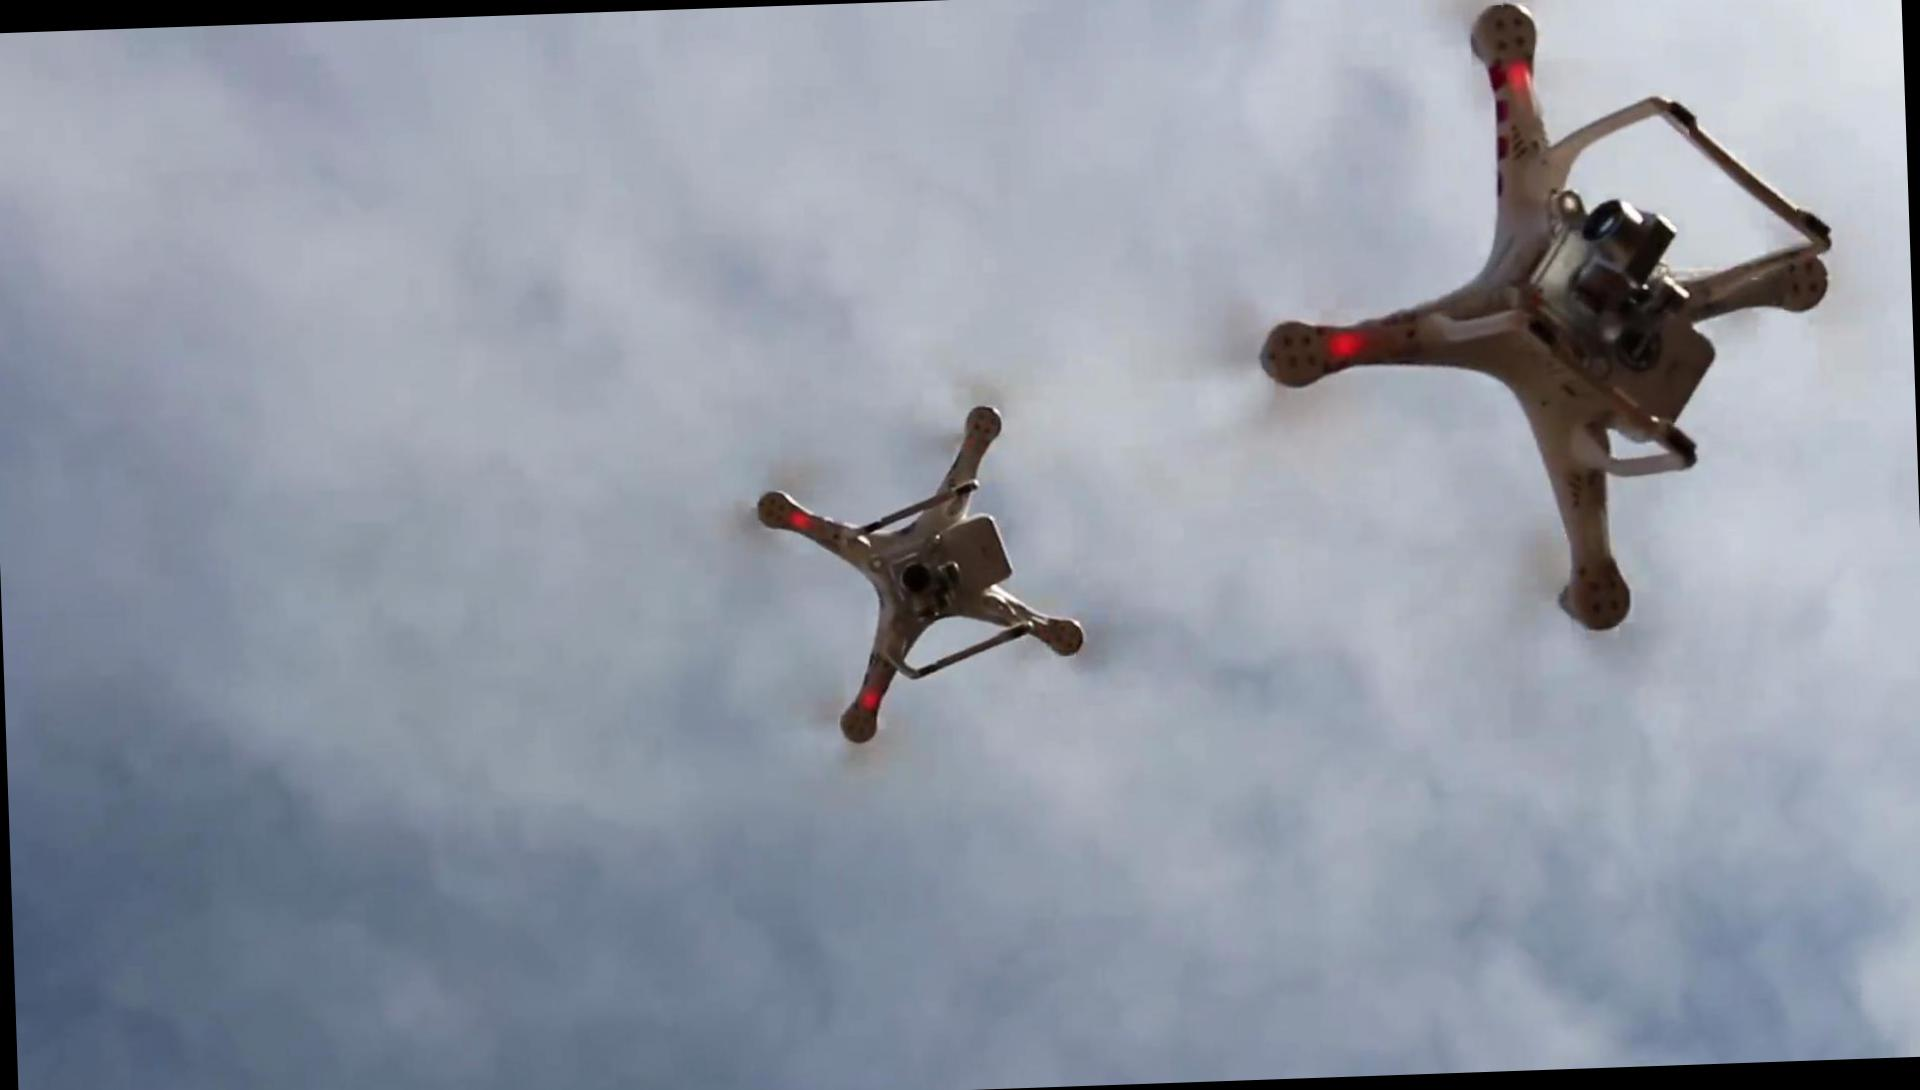drone: (1246, 0, 1847, 643), (746, 393, 1097, 754)
